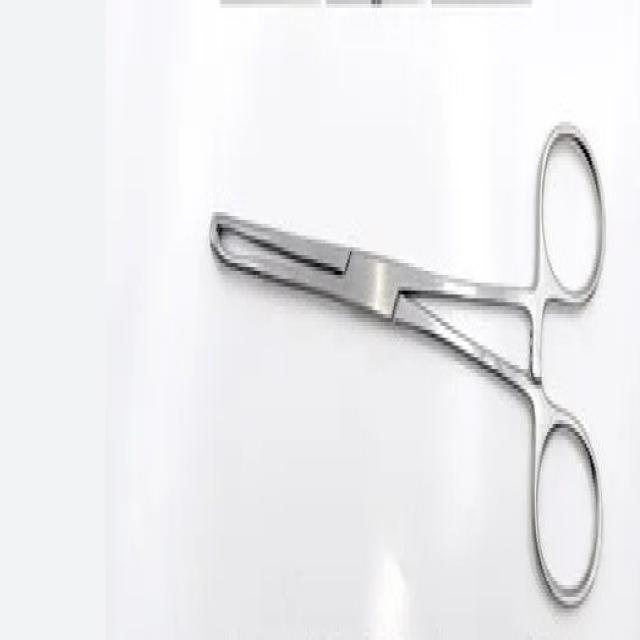Allis Forceps: (208, 98, 606, 616)
